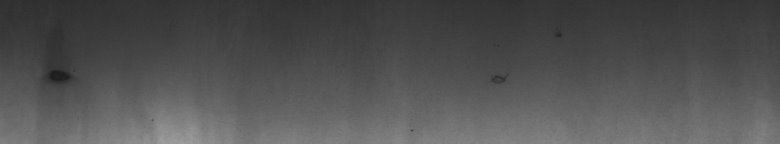fi: (40, 64, 75, 92)
